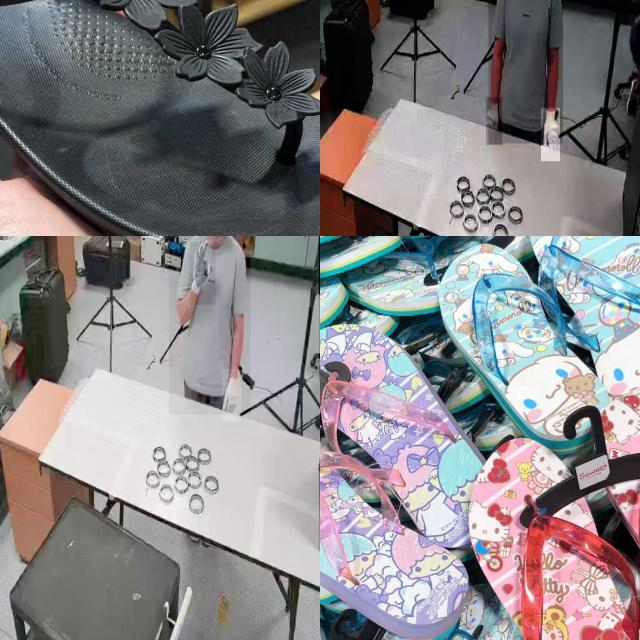Sandals: (0, 0, 320, 236), (320, 317, 501, 640), (438, 381, 640, 640), (424, 236, 640, 448)
hand_glove: (190, 242, 216, 305), (541, 108, 561, 162), (222, 369, 242, 422), (486, 97, 503, 146)
hand_noglove: (637, 5, 640, 29)
person: (169, 236, 251, 415), (488, 0, 563, 144)
